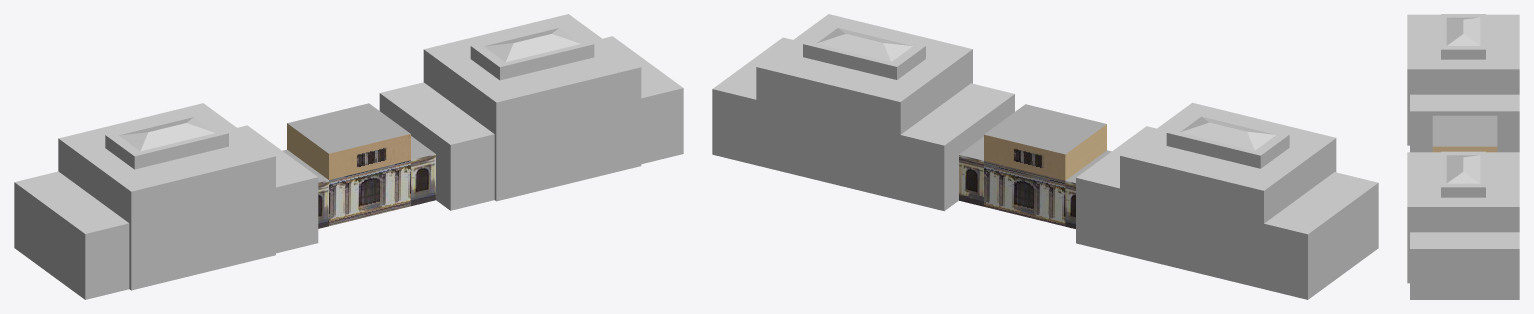
The model's file is Zemaljski.fbx.
3 renders of one model, left to right at view 1: azimuth 30°, elevation 25°; view 2: azimuth 150°, elevation 25°; view 3: azimuth 270°, elevation 25°, orthographic. The views are drawn at different scales.
Parts seen in each view (by area): view 1: Model; view 2: Model; view 3: Model.
Part boxes in pixels (x1=…): Model: x1=14, y1=14, x2=683, y2=299; Model: x1=712, y1=14, x2=1378, y2=299; Model: x1=1407, y1=14, x2=1519, y2=299.
Bounding box in the file's own units: 9500 × 1800 × 2000.
